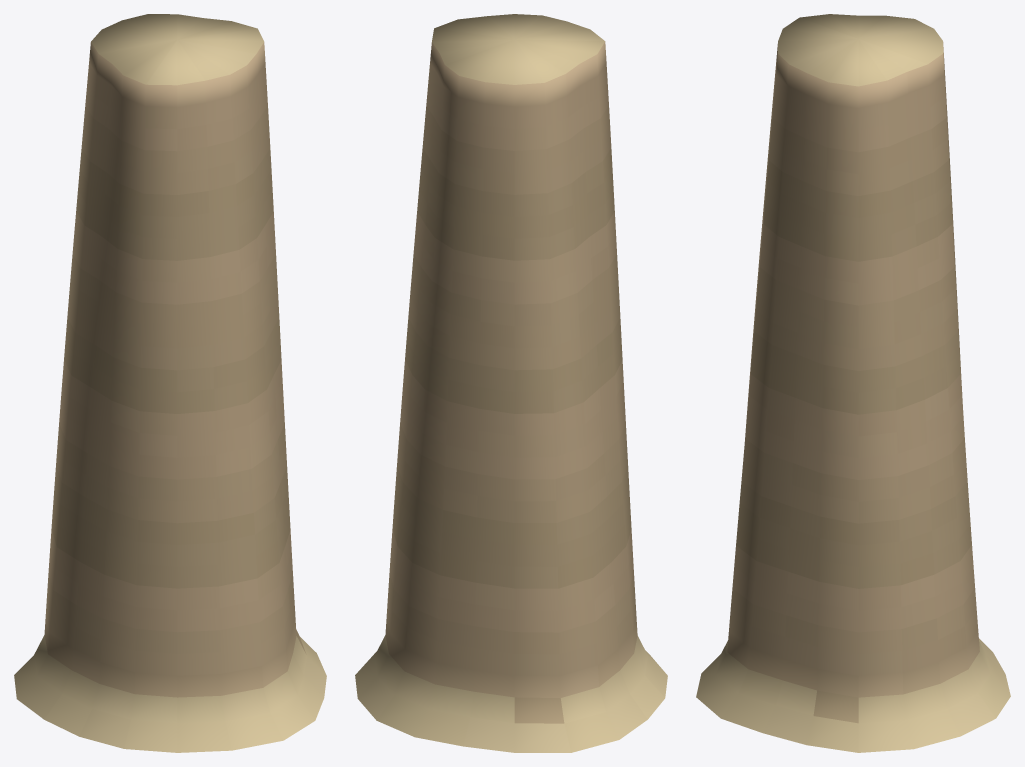
Rendered from Sandstone_Pillar.glb.
The picture shows the model from 3 angles, left to right: view 1: azimuth 30°, elevation 25°; view 2: azimuth 150°, elevation 25°; view 3: azimuth 270°, elevation 25°; orthographic projection.
Parts seen in each view (by area): view 1: SandstonePillar; view 2: SandstonePillar; view 3: SandstonePillar.
Part boxes in pixels (x1=…): SandstonePillar: x1=14, y1=14, x2=326, y2=752; SandstonePillar: x1=355, y1=14, x2=667, y2=752; SandstonePillar: x1=696, y1=14, x2=1010, y2=752.
Size of the model in its own units: 1.34 by 3.04 by 1.34.
